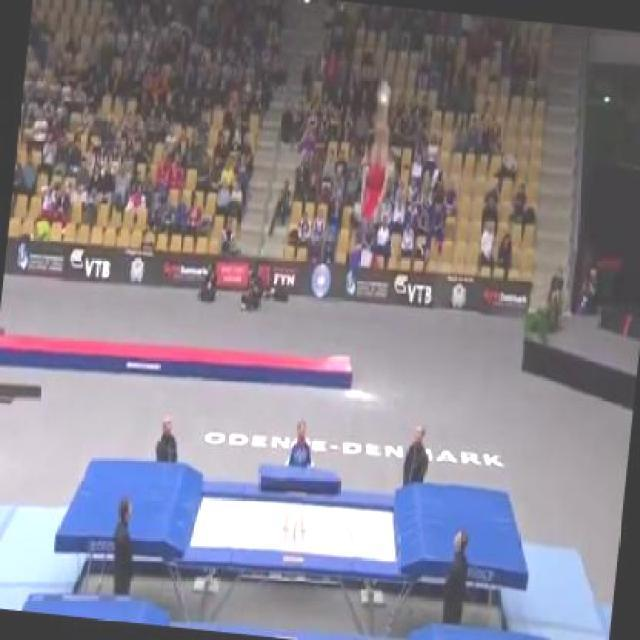non-fight: (355, 84, 397, 236)
